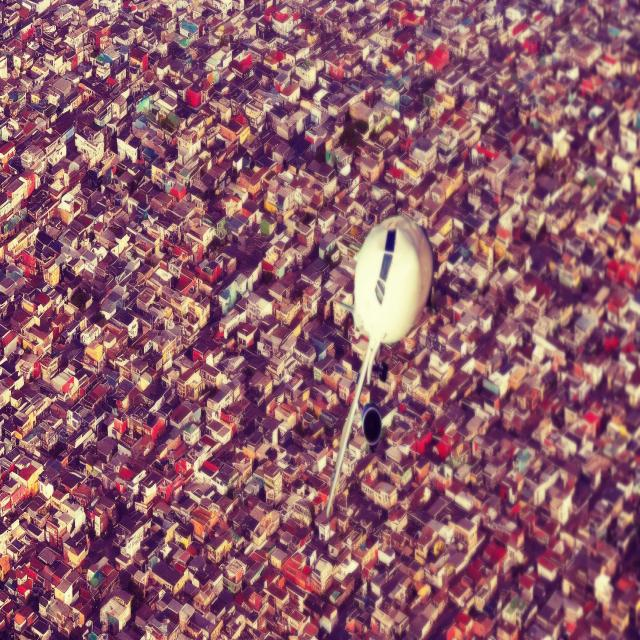airplane: (324, 214, 434, 518)
